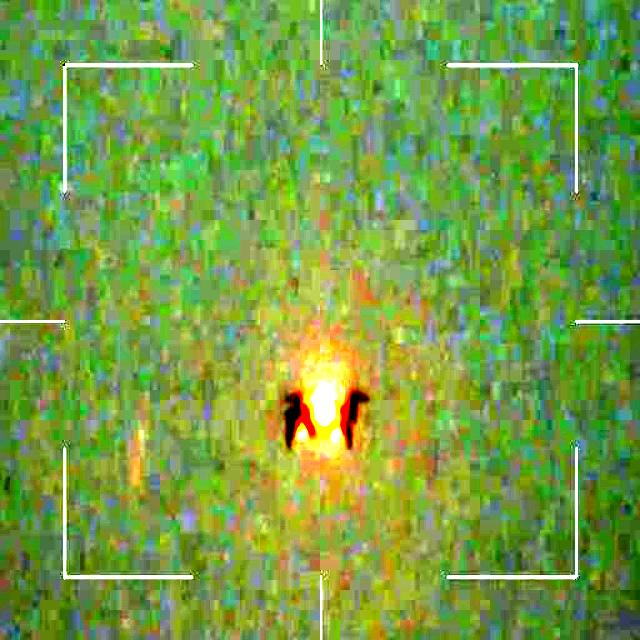bird: (281, 366, 369, 451)
